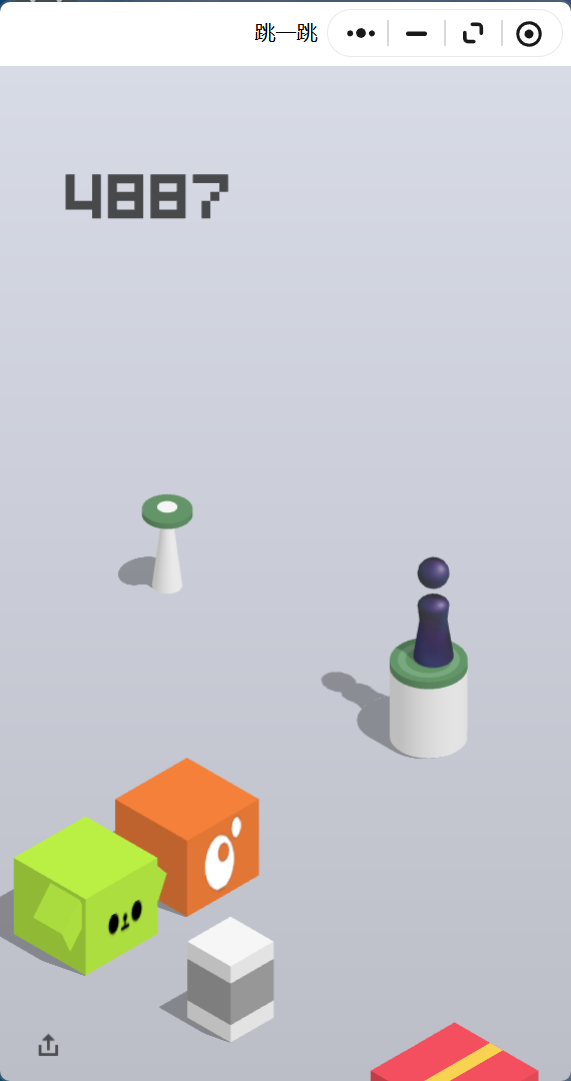piece: (417, 557, 449, 663)
target: (142, 494, 192, 524)
